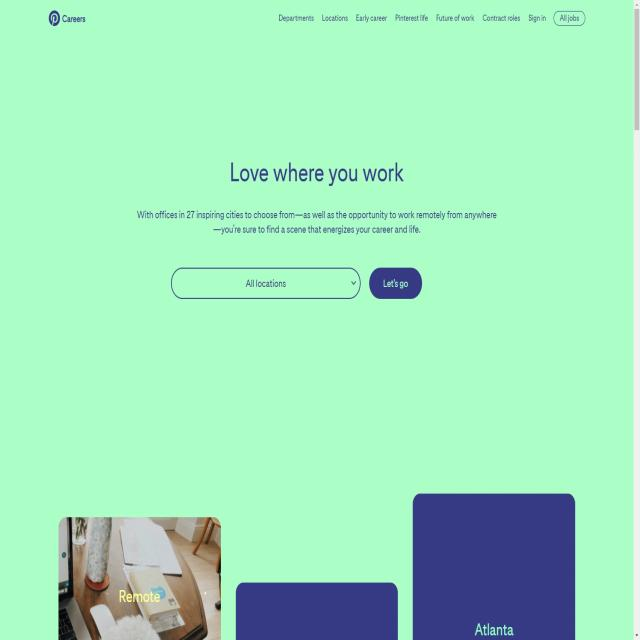menu-bar: (270, 4, 590, 30)
